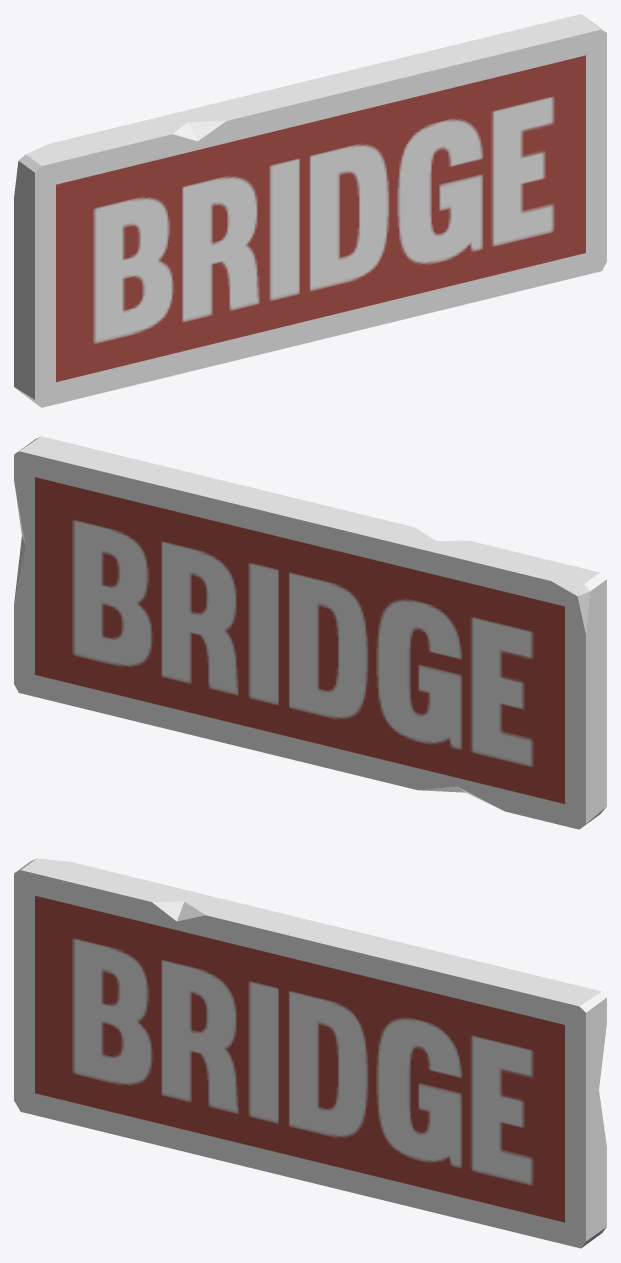
Rendered from SM_Sign_Bridge_01.fbx.
The picture shows the model from 3 angles, top to bottom: view 1: azimuth 30°, elevation 25°; view 2: azimuth 150°, elevation 25°; view 3: azimuth 330°, elevation 25°; orthographic projection.
Visible parts, largest first — view 1: SM_Sign_Bridge_01; view 2: SM_Sign_Bridge_01; view 3: SM_Sign_Bridge_01.
Part boxes in pixels (left/top/right/bottom): SM_Sign_Bridge_01: left=14, top=14, right=606, bottom=407; SM_Sign_Bridge_01: left=14, top=436, right=606, bottom=829; SM_Sign_Bridge_01: left=14, top=858, right=606, bottom=1248.
Size of the model in its own units: 227 by 91.8 by 14.42.
1 material, 1 textured.
